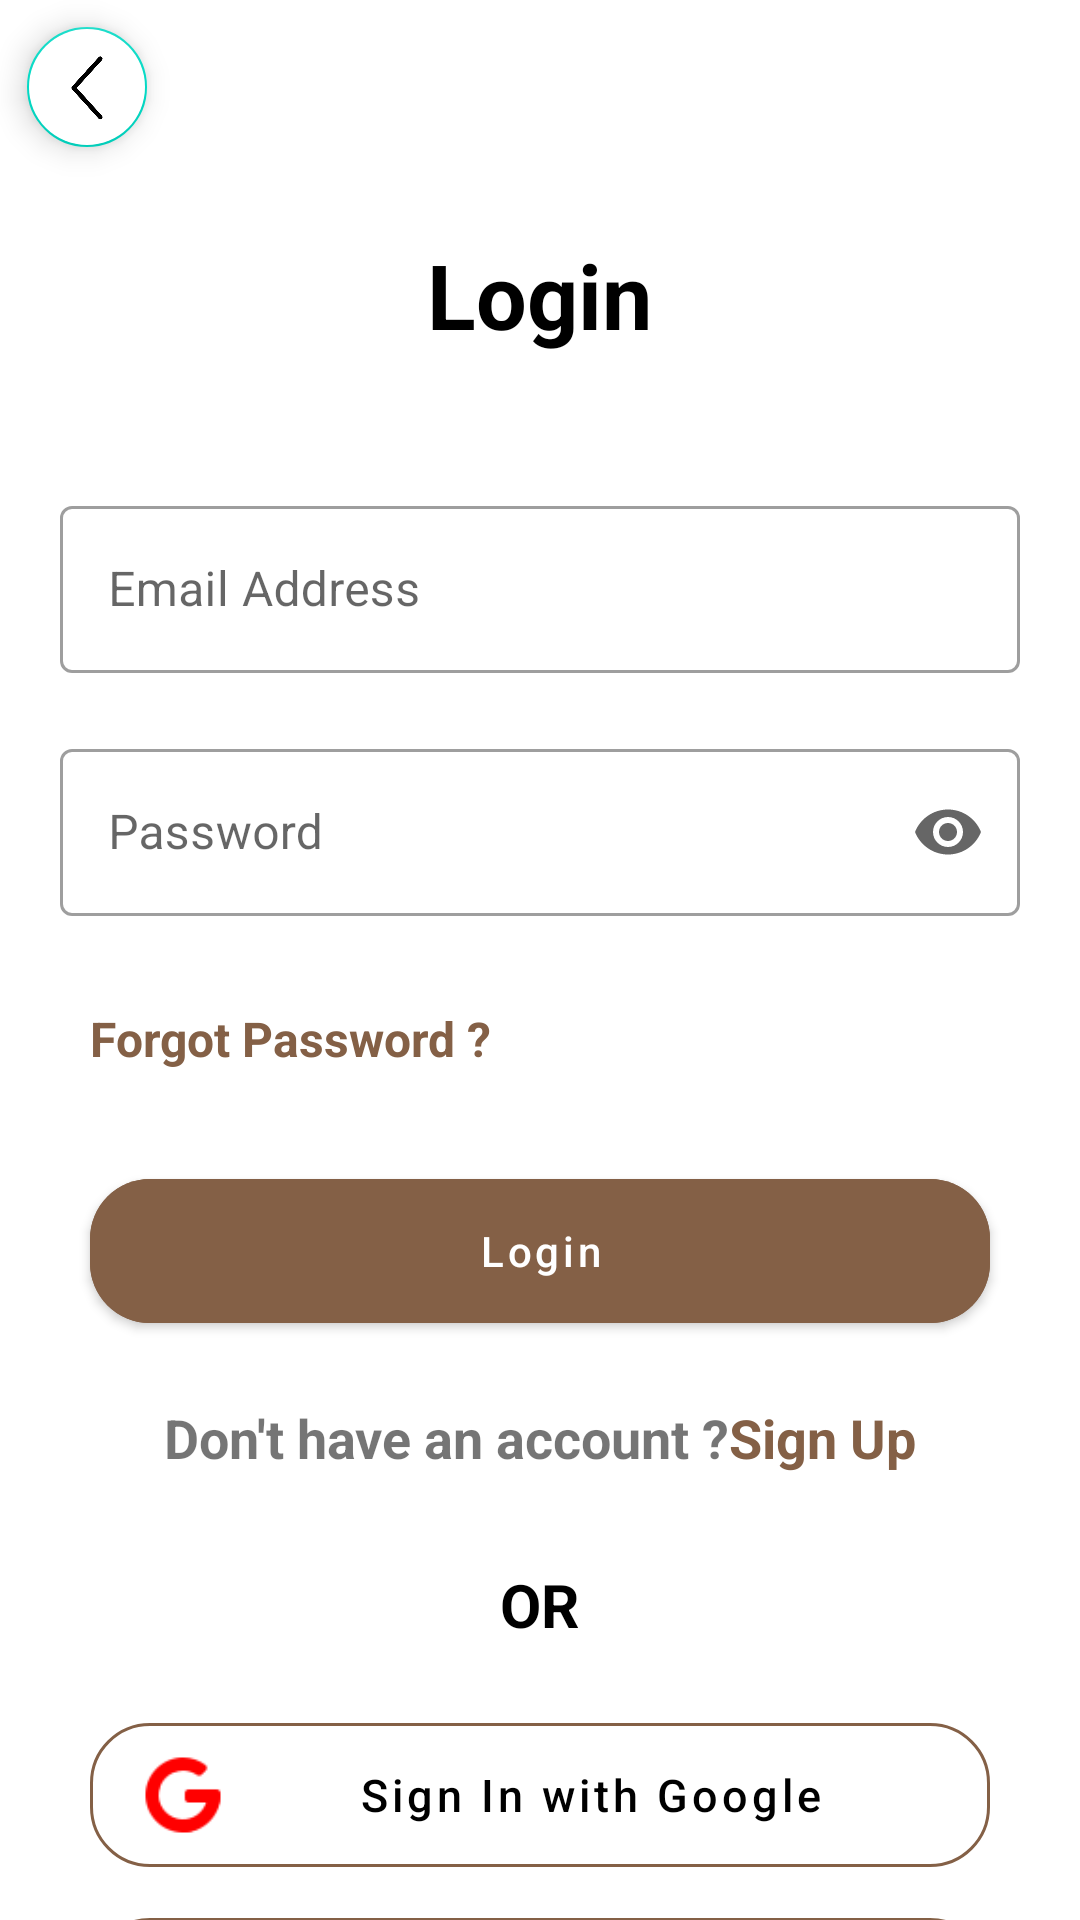

Icon bounding boxes for this 1080 x 1920 phone screenshot, format (x1, y1, x2, y2):
back: (25, 27, 147, 147)
